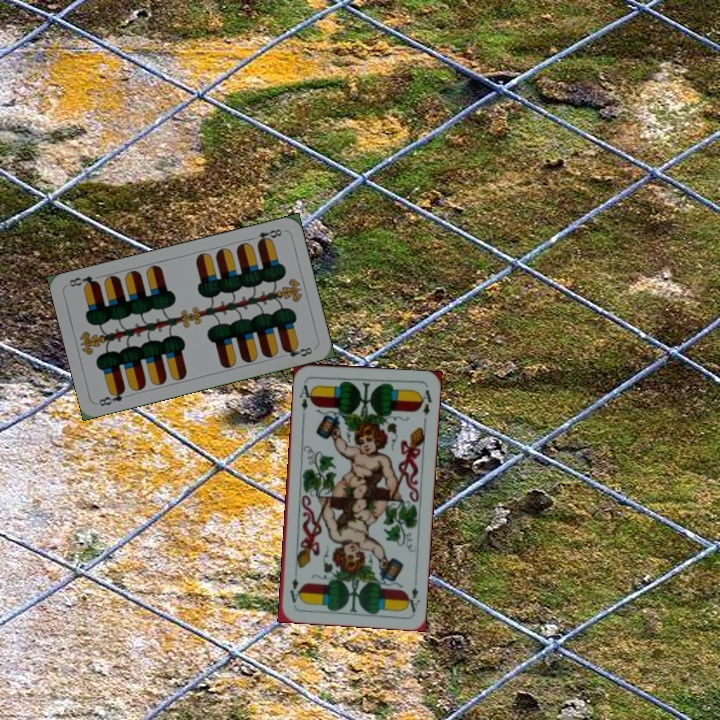E8: (246, 225, 285, 247), (95, 385, 128, 409)
EA: (403, 574, 422, 614), (296, 378, 315, 412)
